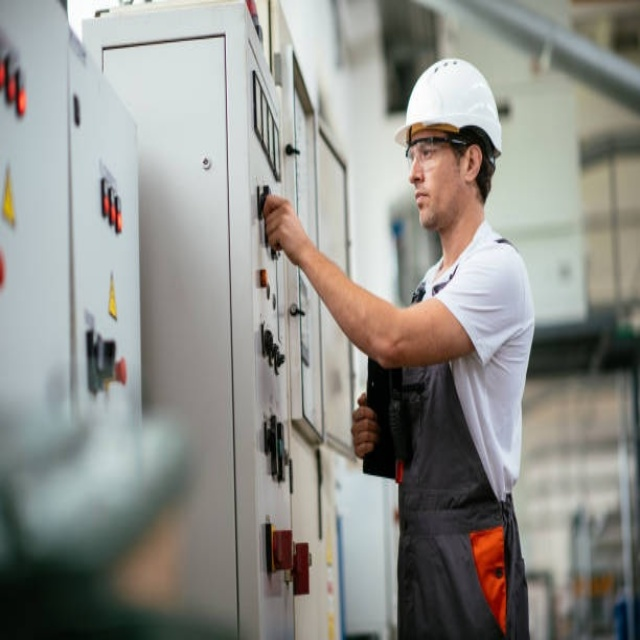Gafas: (405, 135, 473, 168)
Sin_guantes: (260, 191, 307, 264), (352, 393, 381, 460)
Sin_mascara: (412, 182, 438, 226)
